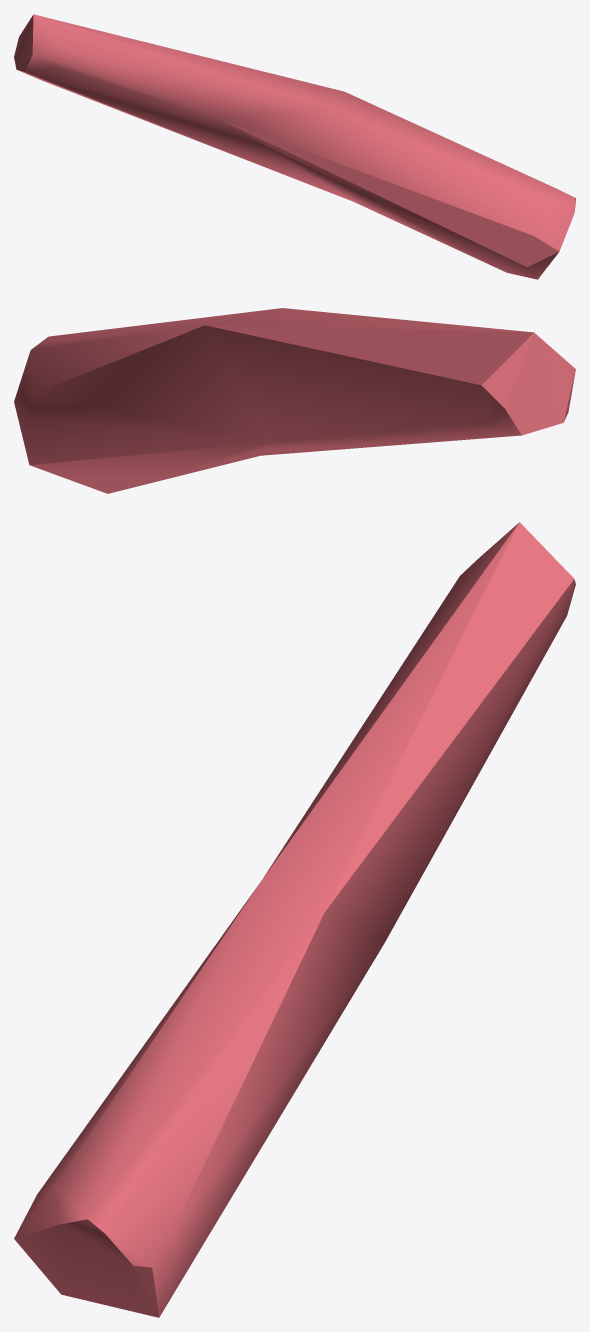
The model's file is fma8664_fj6054.glb.
The picture shows the model from 3 angles, top to bottom: view 1: azimuth 30°, elevation 25°; view 2: azimuth 150°, elevation 25°; view 3: azimuth 270°, elevation 25°; orthographic projection. The views are drawn at different scales.
Parts seen in each view (by area): view 1: FMA8664_FJ6054; view 2: FMA8664_FJ6054; view 3: FMA8664_FJ6054.
Part boxes in pixels (bbox=[...]): FMA8664_FJ6054: bbox=[14, 14, 575, 279]; FMA8664_FJ6054: bbox=[14, 308, 575, 493]; FMA8664_FJ6054: bbox=[14, 522, 575, 1317].
Size of the model in its own units: 0.0158 by 0.0092 by 0.00997.
